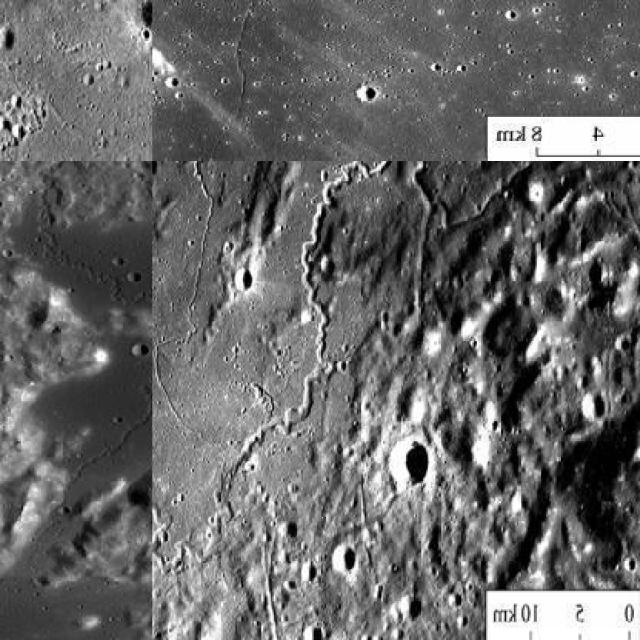rille: (152, 160, 503, 574), (211, 0, 537, 158), (0, 160, 151, 495), (152, 160, 231, 451), (95, 0, 150, 92)
